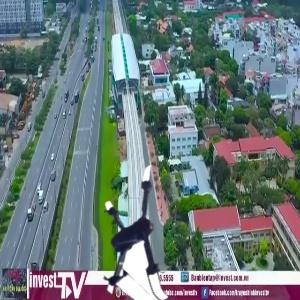drone: (75, 169, 206, 300)
